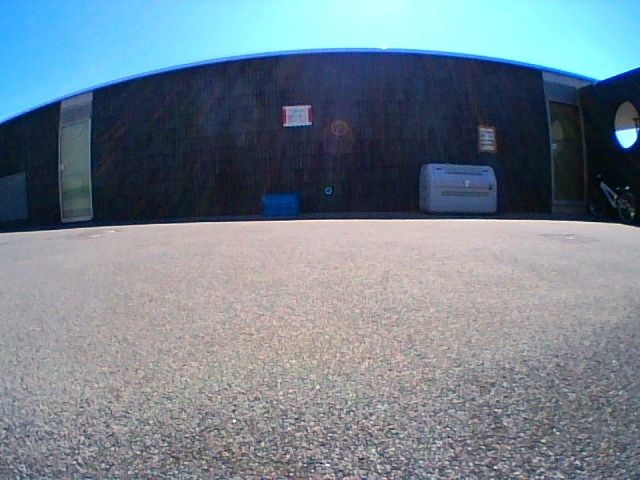blue_box: (263, 194, 297, 217)
